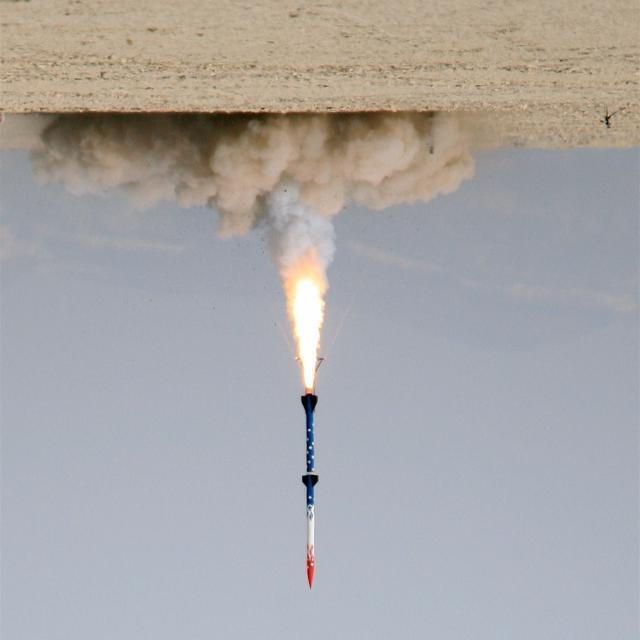missile: (296, 382, 328, 590)
